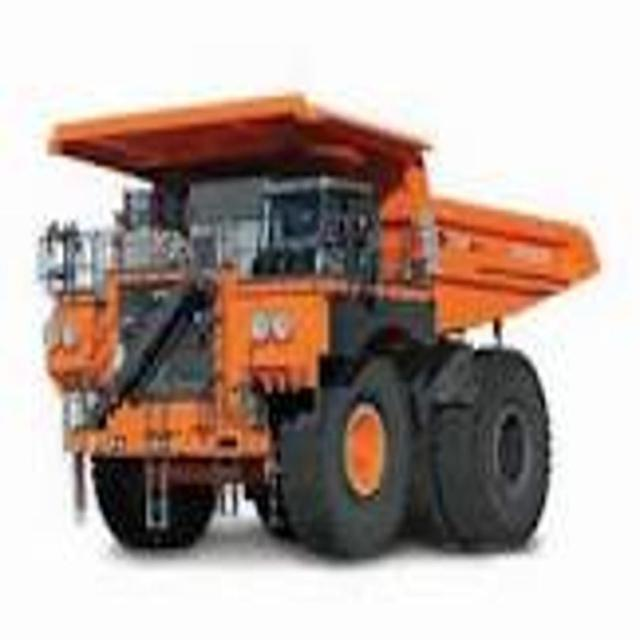dump_truck: (36, 84, 602, 563)
